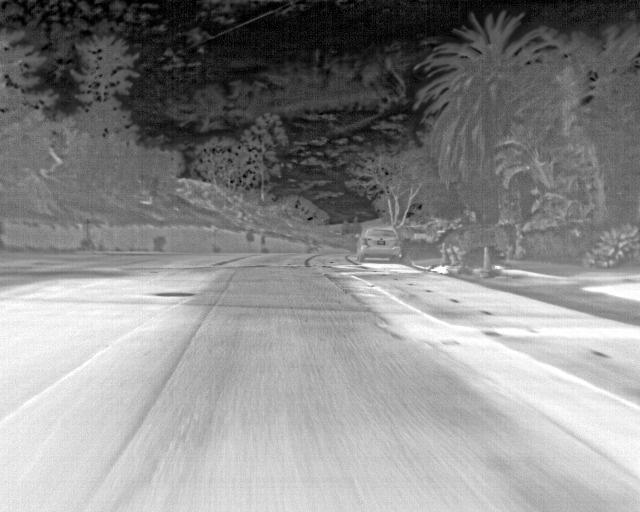car: (355, 225, 403, 264)
